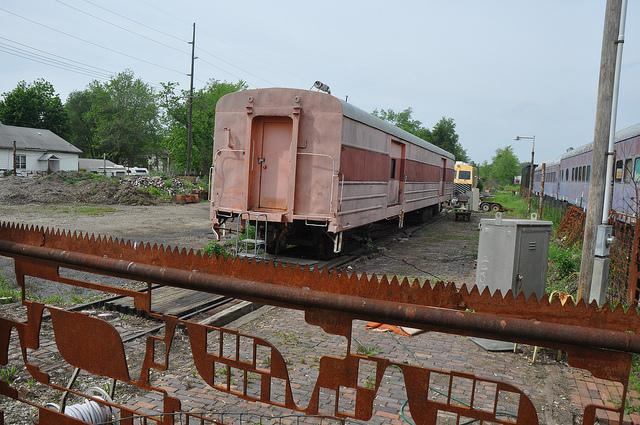Train: (209, 89, 484, 259)
